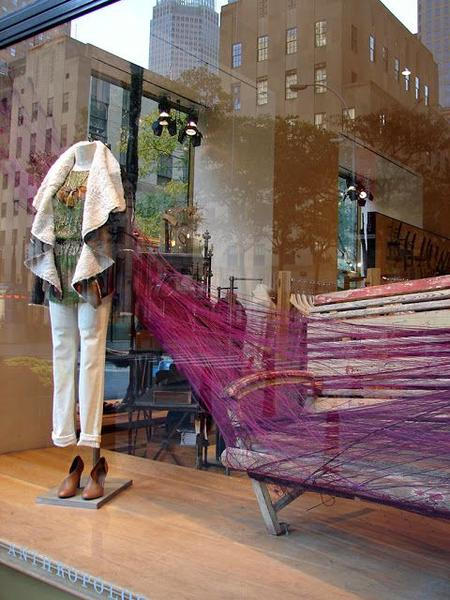person-like: (20, 132, 133, 505)
